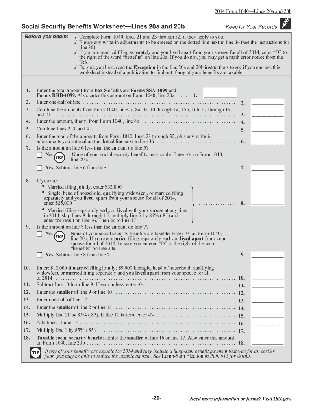checkbox: (35, 250, 43, 258), (35, 151, 44, 158), (35, 230, 44, 237), (35, 164, 43, 171)
textline: (247, 284, 286, 297), (247, 292, 286, 305), (201, 86, 240, 98), (249, 95, 288, 107), (248, 106, 287, 118), (249, 113, 288, 125), (247, 121, 286, 133), (248, 133, 287, 145), (247, 159, 286, 171), (248, 195, 287, 207), (249, 246, 288, 258), (247, 269, 286, 281), (249, 277, 288, 289), (247, 300, 286, 312), (248, 307, 287, 319), (248, 315, 287, 327), (248, 322, 287, 334), (249, 333, 288, 345)
